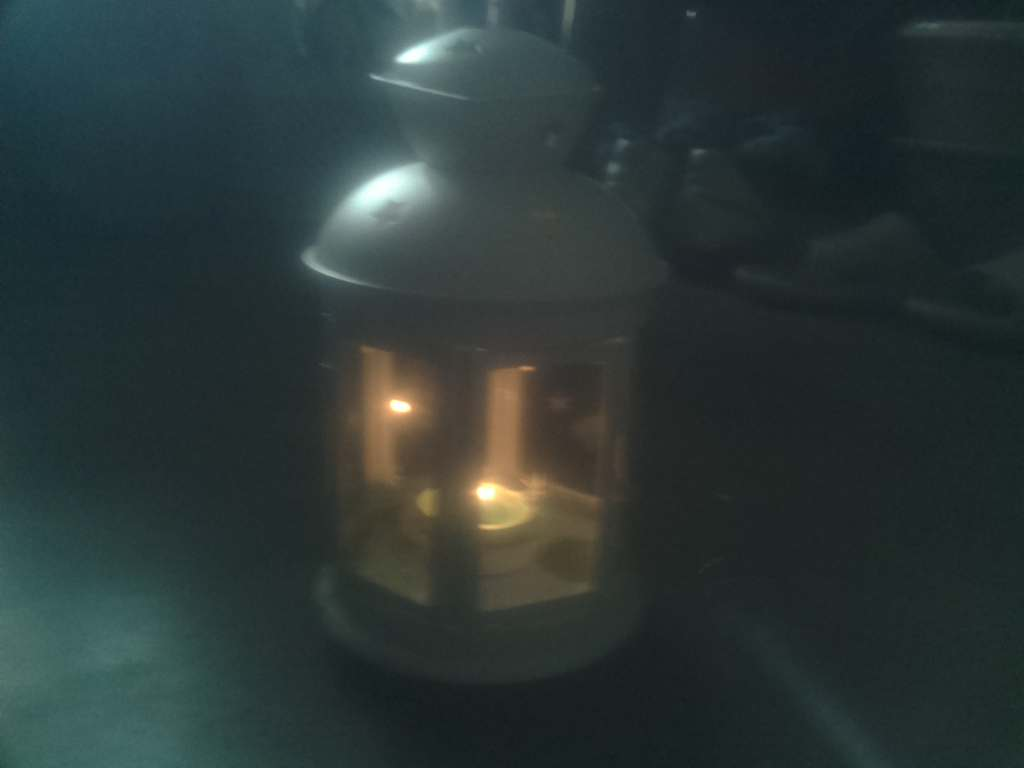fire: (428, 449, 529, 530)
